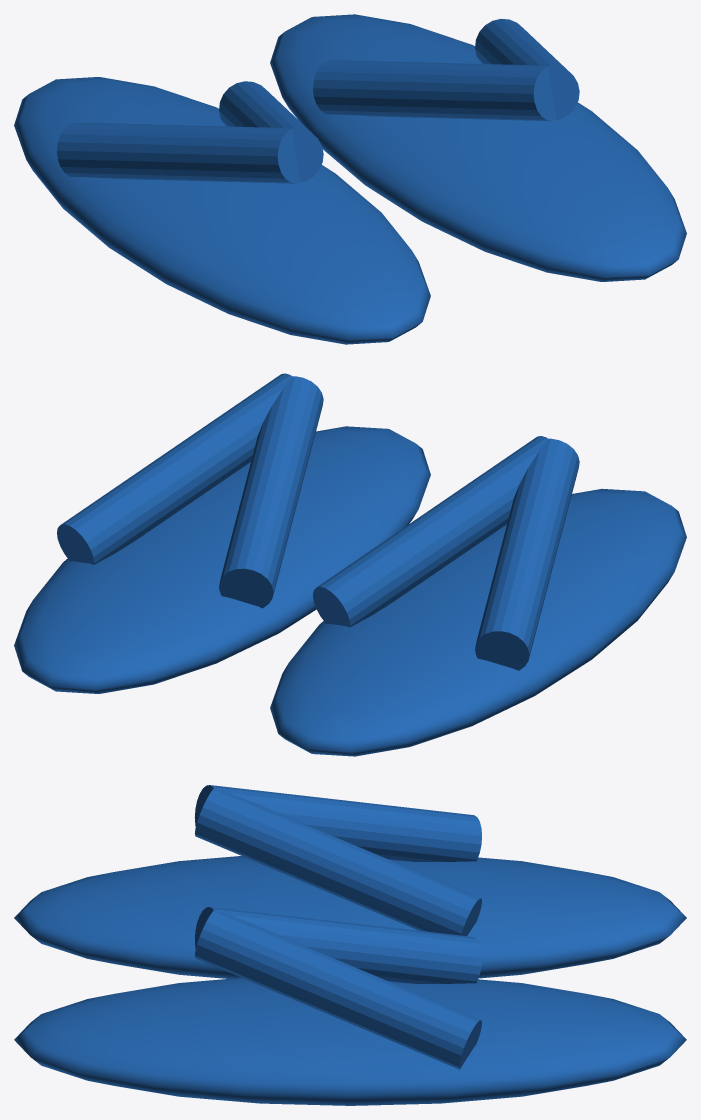
Rendered from better.glb.
3 views of the same model, one above another, from view 1: azimuth 30°, elevation 25°; view 2: azimuth 150°, elevation 25°; view 3: azimuth 270°, elevation 25° (orthographic). The views are drawn at different scales.
Parts seen in each view (by area): view 1: Flip-flop sole; view 2: Flip-flop sole; view 3: Flip-flop sole.
Part boxes in pixels (x1=…): Flip-flop sole: x1=14, y1=14, x2=686, y2=344; Flip-flop sole: x1=14, y1=373, x2=686, y2=756; Flip-flop sole: x1=14, y1=785, x2=686, y2=1105.
Bounding box in the file's own units: 0.7667 × 0.2528 × 0.9333.
